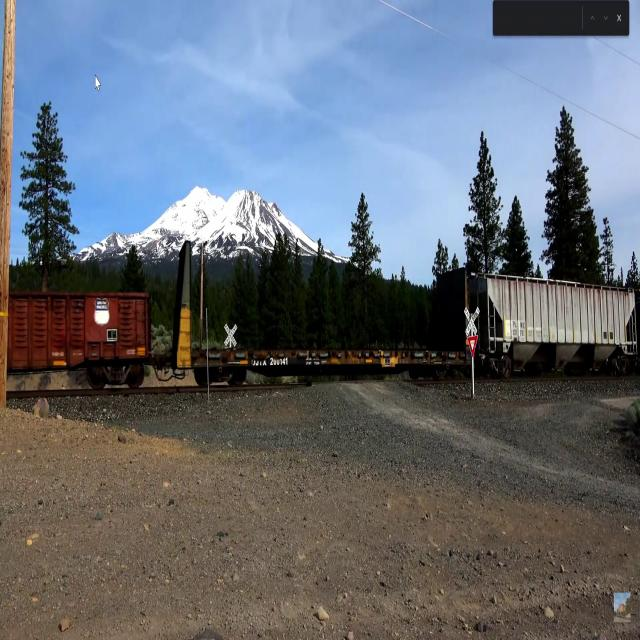flatcar_bulkhead: (170, 235, 474, 382)
gondola: (8, 279, 160, 389)
hopper: (474, 265, 640, 377)
